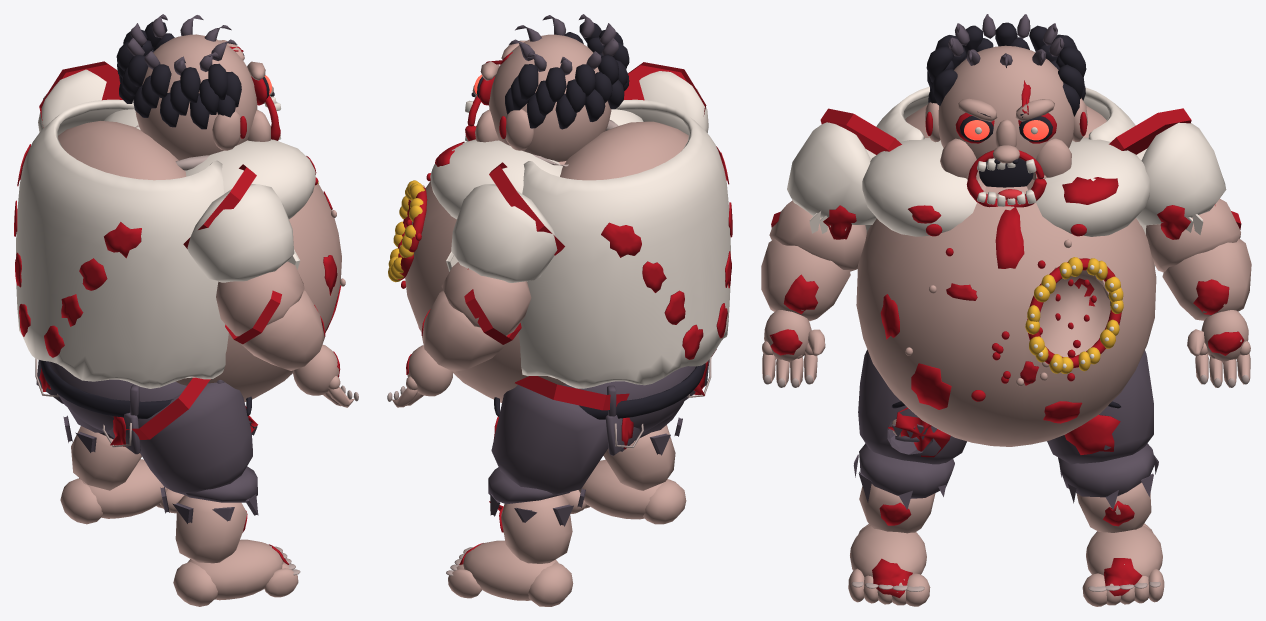
The model's file is inf.bloated.glb.
3 views of the same model, side by side, from view 1: azimuth 30°, elevation 25°; view 2: azimuth 150°, elevation 25°; view 3: azimuth 270°, elevation 25° (orthographic). The views are drawn at different scales.
Visible parts, largest first — view 1: torso, head, armR, legR, footR, shinR, hip, footL, foreArmR, shinL, handR, armL (+5 smaller); view 2: torso, head, armL, legL, shinL, footL, footR, hip, foreArmL, shinR, handL, armR (+5 smaller); view 3: torso, head, armR, armL, shinL, shinR, legR, footL, footR, legL, foreArmL, foreArmR (+4 smaller).
Boxes of the visible parts, x1,y1,x2,y2 form: torso: (14, 99, 345, 401); head: (116, 14, 280, 160); armR: (187, 184, 304, 336); legR: (102, 382, 257, 495); footR: (173, 539, 300, 606); shinR: (160, 466, 258, 563); hip: (40, 360, 224, 434); footL: (60, 459, 184, 524); foreArmR: (241, 290, 325, 370); shinL: (63, 415, 141, 490); handR: (292, 344, 358, 407); armL: (38, 69, 106, 132); torso: (388, 99, 732, 402); head: (465, 14, 629, 161); armL: (441, 184, 557, 335); legL: (491, 385, 643, 495); shinL: (488, 467, 585, 563); footL: (446, 540, 573, 606); footR: (561, 459, 686, 524); hip: (562, 363, 705, 432); foreArmL: (421, 290, 507, 371); shinR: (603, 417, 682, 490); handL: (387, 345, 453, 407); armR: (639, 71, 708, 132); torso: (856, 86, 1156, 446); head: (925, 14, 1087, 207); armR: (769, 122, 876, 271); armL: (1136, 122, 1240, 272); shinL: (1058, 443, 1158, 532); shinR: (853, 443, 954, 533); legR: (858, 349, 966, 464); footL: (1082, 523, 1164, 606); footR: (848, 524, 930, 606); legL: (1047, 350, 1153, 464); foreArmL: (1162, 238, 1251, 320); foreArmR: (761, 239, 850, 321).
Size of the model in its own units: 0.9947 by 1.64 by 1.33.
